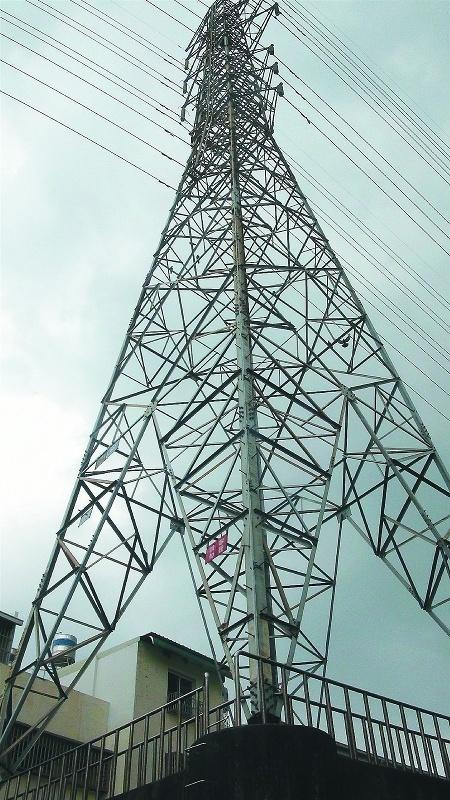power_tower: (71, 3, 430, 713)
